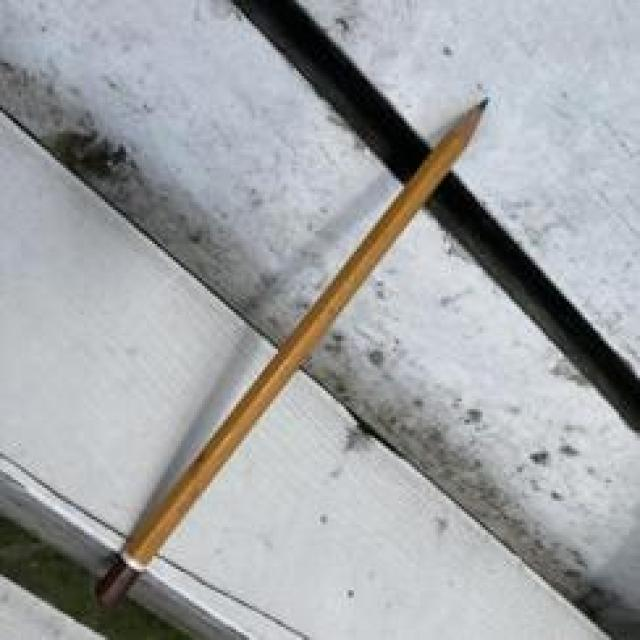pencil: (70, 73, 512, 631)
